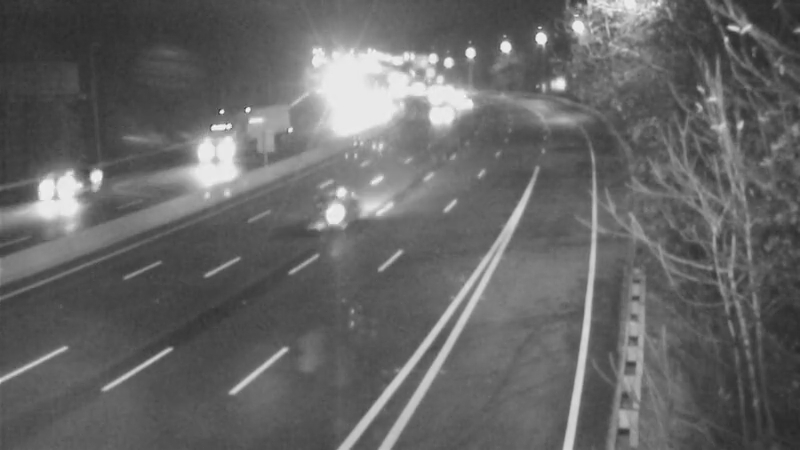vehicle: (298, 171, 378, 251), (18, 149, 98, 229), (407, 70, 457, 120), (437, 81, 487, 131), (414, 83, 464, 133), (190, 124, 240, 174)
